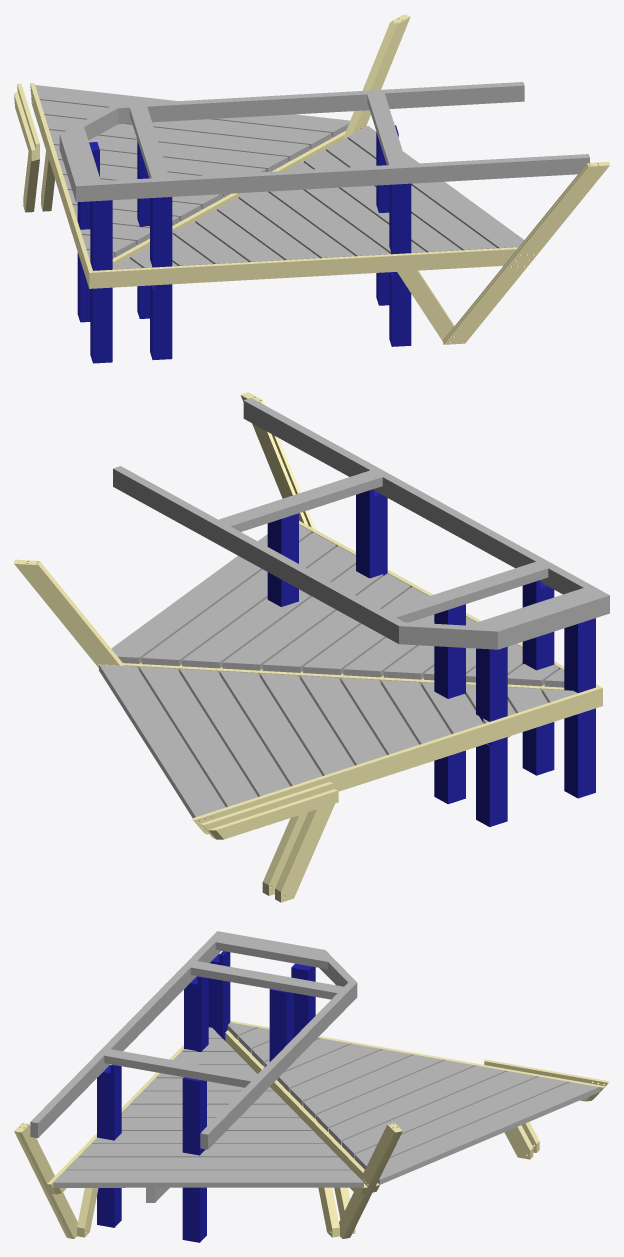
The model's file is lava_str.glb.
3 views of the same model, one above another, from view 1: azimuth 30°, elevation 25°; view 2: azimuth 150°, elevation 25°; view 3: azimuth 270°, elevation 25° (orthographic). The views are drawn at different scales.
Parts seen in each view (by area): view 1: Solid1 (×17), Solid2 (×4), Solid3 (×3); view 2: Solid1 (×17), Solid2 (×3), Solid3 (×2); view 3: Solid1 (×17), Solid2 (×4), Solid3 (×3).
Boxes of the visible parts, <box> form: Solid1 (×17): <box>35,14,609,363</box>; Solid2 (×4): <box>14,83,518,288</box>; Solid3 (×3): <box>23,151,454,340</box>; Solid1 (×17): <box>14,392,609,826</box>; Solid2 (×3): <box>123,662,602,839</box>; Solid3 (×2): <box>262,803,334,902</box>; Solid1 (×17): <box>14,931,599,1242</box>; Solid2 (×4): <box>47,1020,609,1194</box>; Solid3 (×3): <box>77,1125,533,1237</box>.
Size of the model in its own units: 2.32 by 0.897 by 2.87.
